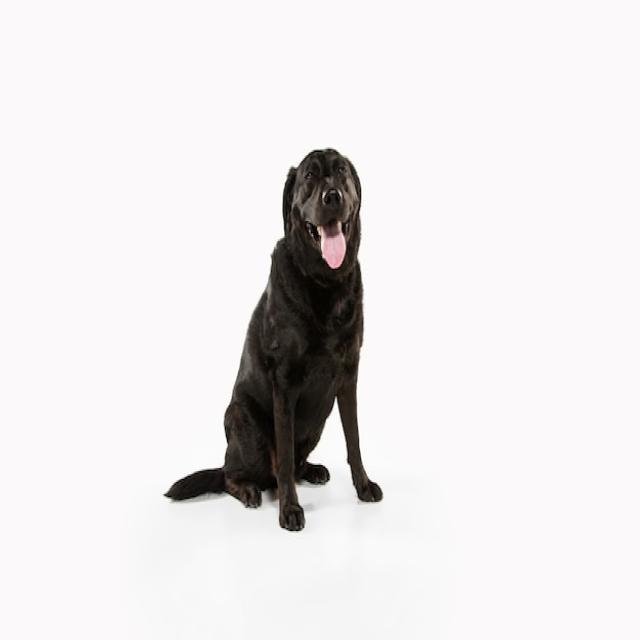Dog: (165, 148, 382, 533)
